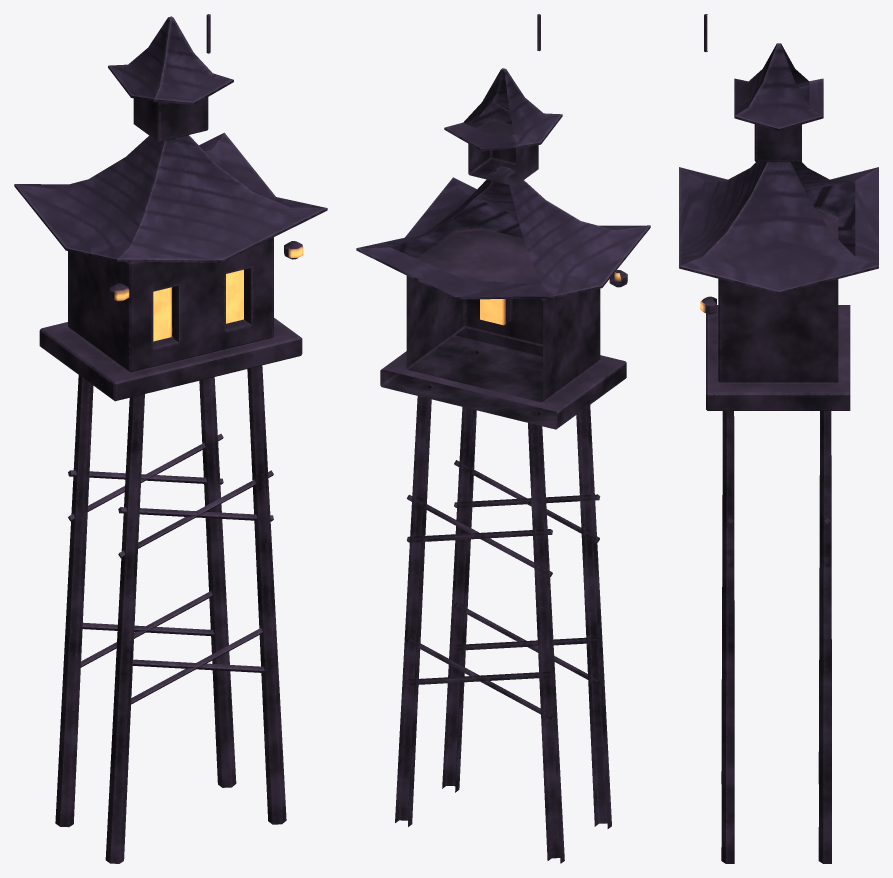
File: StiltVillage_BG_Far_A.fbx
3 renders of one model, left to right at view 1: azimuth 30°, elevation 25°; view 2: azimuth 150°, elevation 25°; view 3: azimuth 270°, elevation 25°, orthographic. The views are drawn at different scales.
Parts seen in each view (by area): view 1: StiltVillage_BG_Far_A; view 2: StiltVillage_BG_Far_A; view 3: StiltVillage_BG_Far_A.
Boxes of the visible parts, x1,y1,x2,y2 form: StiltVillage_BG_Far_A: [14, 14, 327, 863]; StiltVillage_BG_Far_A: [356, 14, 650, 863]; StiltVillage_BG_Far_A: [679, 14, 878, 863].
Size of the model in its own units: 5.8 by 22.01 by 4.93.
